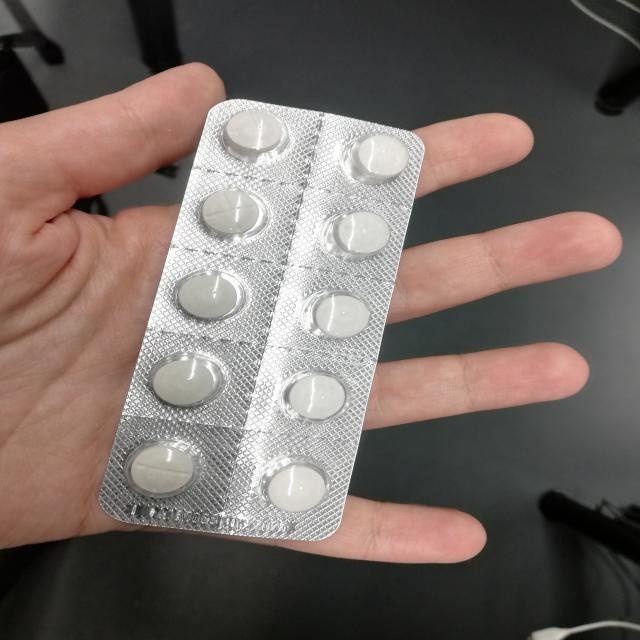Pill: (144, 346, 230, 414), (165, 262, 255, 326), (124, 436, 207, 503), (194, 178, 266, 247), (276, 369, 361, 424), (298, 288, 374, 348), (328, 205, 403, 264), (342, 128, 414, 187), (219, 105, 300, 157), (261, 461, 335, 515)
